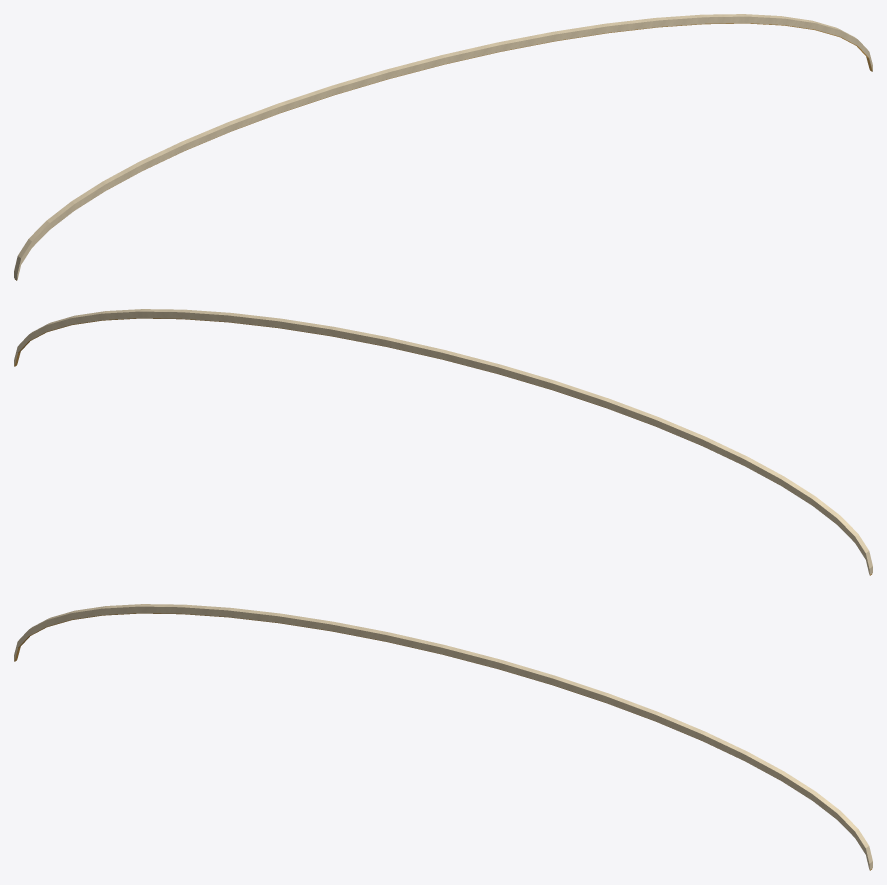
File: SM_Theater_Roof_Rib.fbx
3 views of the same model, one above another, from view 1: azimuth 30°, elevation 25°; view 2: azimuth 150°, elevation 25°; view 3: azimuth 330°, elevation 25° (orthographic).
Visible parts, largest first — view 1: SM_Theater_Roof_Rib_LOD0; view 2: SM_Theater_Roof_Rib_LOD0; view 3: SM_Theater_Roof_Rib_LOD0.
Boxes of the visible parts, x1,y1,x2,y2 form: SM_Theater_Roof_Rib_LOD0: [14, 14, 872, 280]; SM_Theater_Roof_Rib_LOD0: [14, 309, 872, 575]; SM_Theater_Roof_Rib_LOD0: [14, 604, 872, 870].
Size of what is drawn, in the model's own units: 48 by 6.4 by 0.34.
